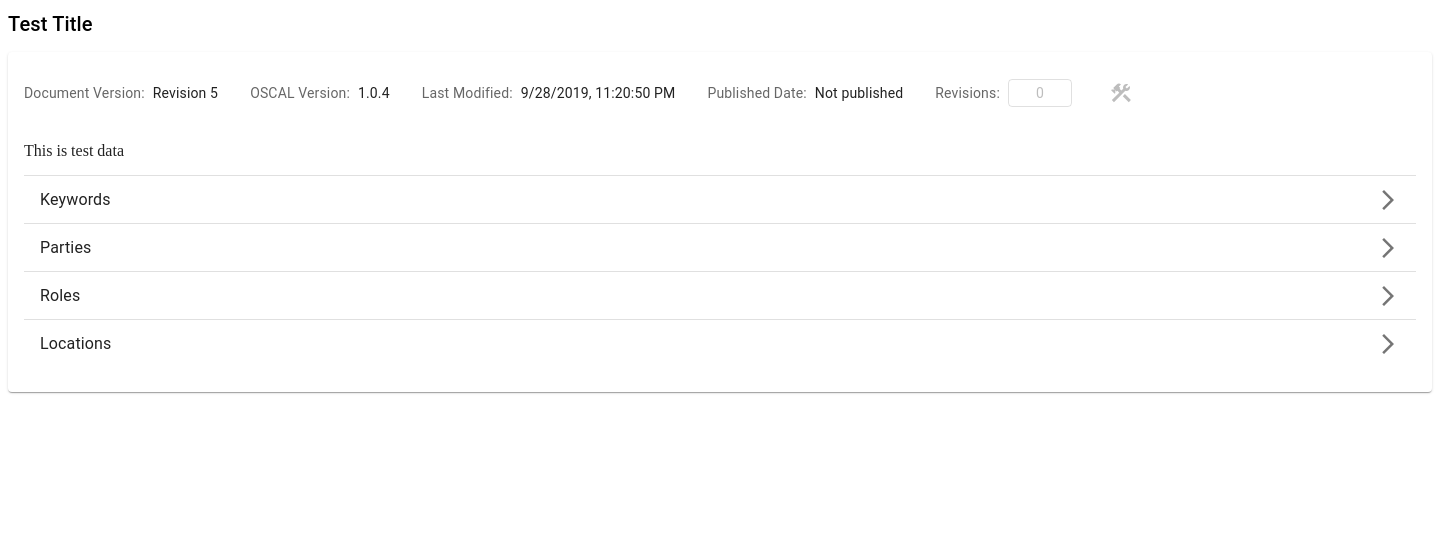
Test: OSCAL metadata locations › display location titles
This screenshot has width=1440, height=554.
Click the button "Locations" at (76, 344), box [40,332,1400,356]
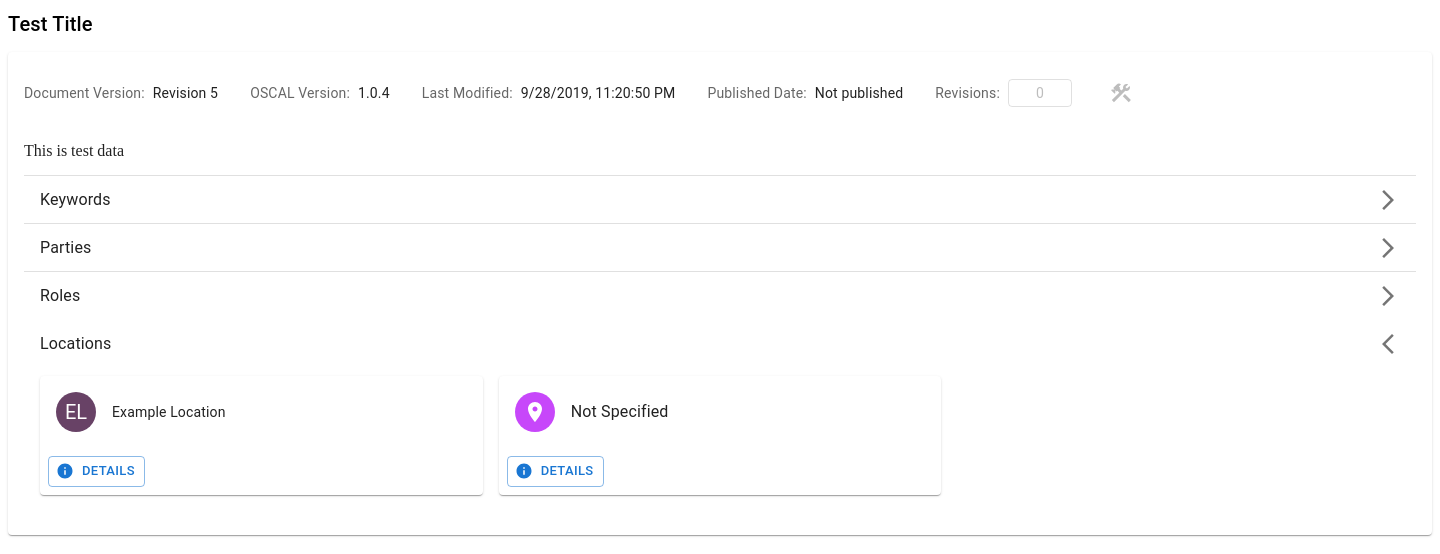
Result: the text "Example Location" is shown at [112,404,226,420]
Result: the text "Not Specified" is shown at [571,402,669,421]
